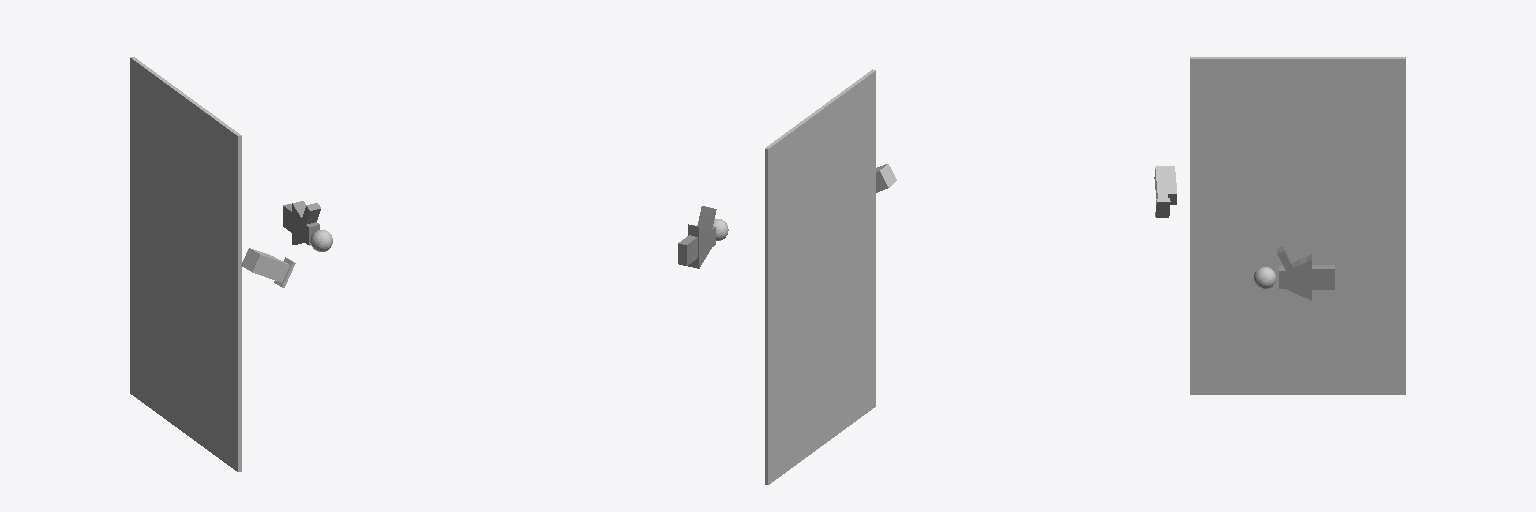
Rendered from videplace.obj.
3 renders of one model, left to right at view 1: azimuth 30°, elevation 25°; view 2: azimuth 150°, elevation 25°; view 3: azimuth 270°, elevation 25°, orthographic.
Parts seen in each view (by area): view 1: Cube.005_Cube.007, Cube.004_Cube.005, Cube.001_Cube.002; view 2: Cube.005_Cube.007, Cube.004_Cube.005; view 3: Cube.005_Cube.007, Cube.004_Cube.005, Cube.001_Cube.002.
Boxes of the visible parts, box(x1,y1,x2,y2) form: Cube.005_Cube.007: box(130, 57, 241, 471); Cube.004_Cube.005: box(283, 201, 320, 245); Cube.001_Cube.002: box(241, 248, 295, 287); Cube.005_Cube.007: box(765, 69, 875, 484); Cube.004_Cube.005: box(678, 206, 716, 268); Cube.005_Cube.007: box(1190, 57, 1405, 394); Cube.004_Cube.005: box(1277, 246, 1334, 300); Cube.001_Cube.002: box(1154, 166, 1176, 217).
Bounding box in the file's own units: 4.38 × 10.36 × 7.01.